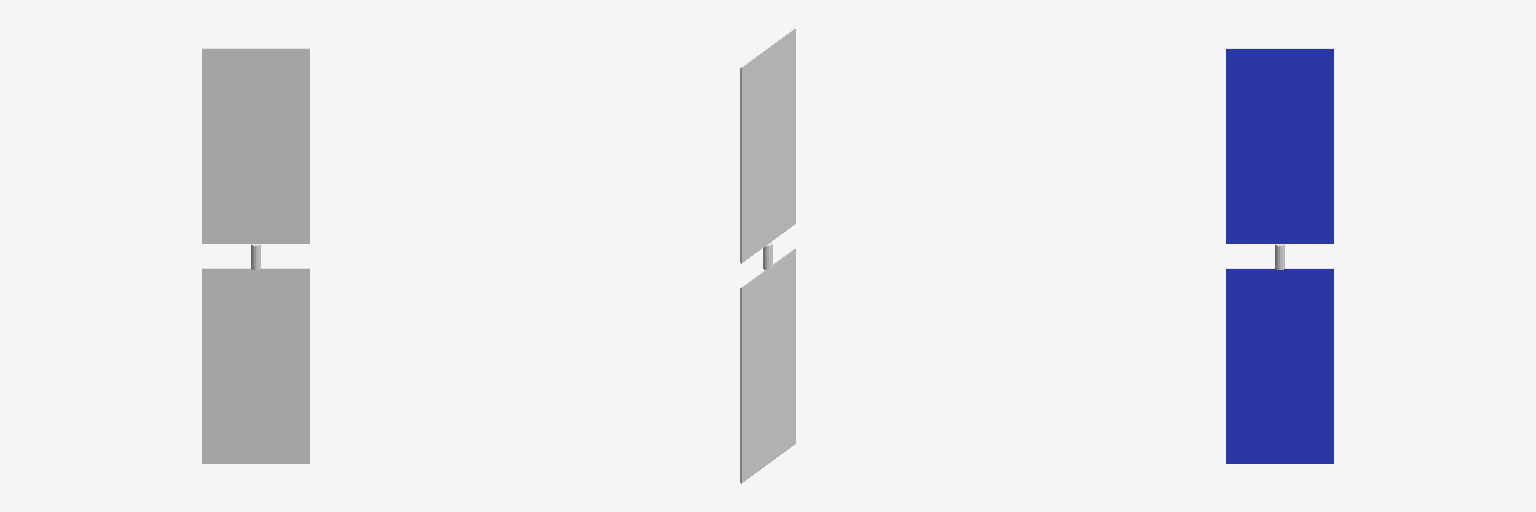
Rendered from Rover_SolarArray.obj.
3 views of the same model, side by side, from view 1: azimuth 90°, elevation 25°; view 2: azimuth 150°, elevation 25°; view 3: azimuth 270°, elevation 25° (orthographic).
Visible parts, largest first — view 1: Solar Array; view 2: Solar Array; view 3: Solar Array.
Boxes of the visible parts, box(x1,y1,x2,y2) form: Solar Array: box(202, 48, 309, 463); Solar Array: box(740, 28, 795, 483); Solar Array: box(1226, 48, 1333, 463).
Bounding box in the file's own units: 0.2 × 8.5 × 2.